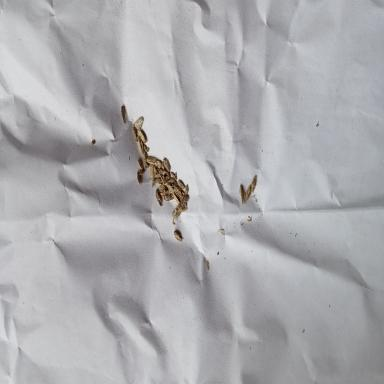pbw: (239, 184, 246, 206), (174, 185, 184, 200), (133, 116, 143, 131), (155, 189, 163, 207), (137, 135, 144, 155), (138, 130, 148, 143), (178, 194, 188, 207), (174, 230, 184, 242), (251, 174, 257, 192), (163, 158, 170, 172), (178, 179, 186, 191), (245, 185, 251, 201), (121, 105, 126, 124), (132, 127, 138, 142), (163, 194, 174, 202), (173, 192, 180, 204), (178, 204, 188, 212), (146, 157, 156, 165), (166, 184, 174, 193), (142, 152, 146, 170), (149, 164, 154, 178), (160, 189, 169, 196), (137, 158, 143, 168), (151, 173, 155, 187), (158, 168, 166, 175), (155, 160, 162, 167), (167, 178, 175, 184), (164, 168, 170, 176), (159, 184, 165, 192), (155, 178, 163, 184), (139, 168, 145, 175), (137, 172, 140, 186), (170, 172, 176, 179), (184, 184, 188, 194), (164, 175, 170, 181), (154, 166, 158, 174), (206, 260, 209, 270), (154, 173, 160, 178), (144, 147, 150, 152), (161, 162, 165, 169), (175, 172, 177, 179)
